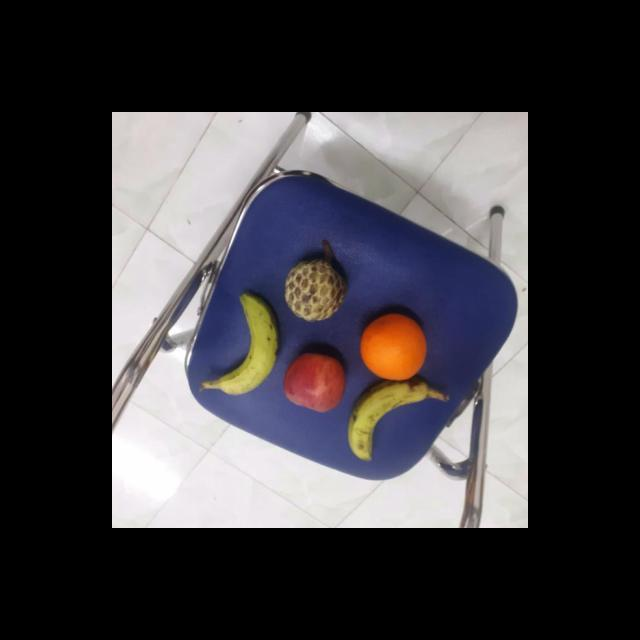Sakya fruit: (282, 260, 348, 322)
apple: (282, 350, 350, 415)
banana: (208, 291, 282, 398), (346, 380, 434, 464)
orange: (362, 310, 431, 382)
